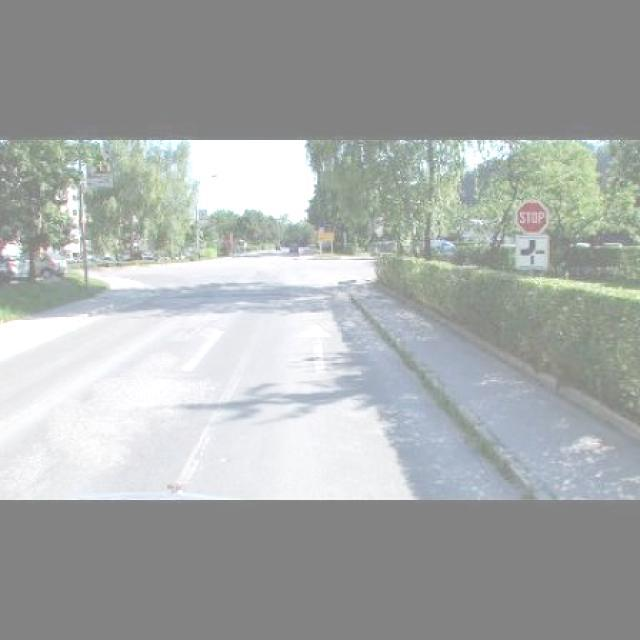stop_sign: (516, 200, 548, 233)
